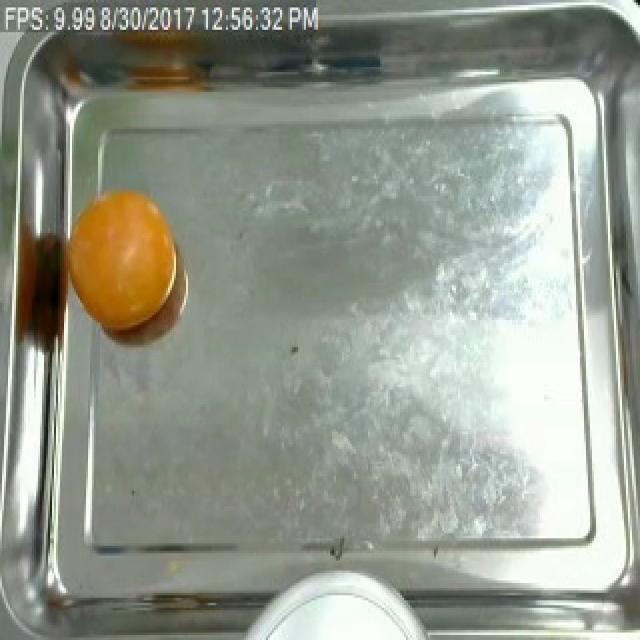Fruit: (60, 181, 184, 337)
